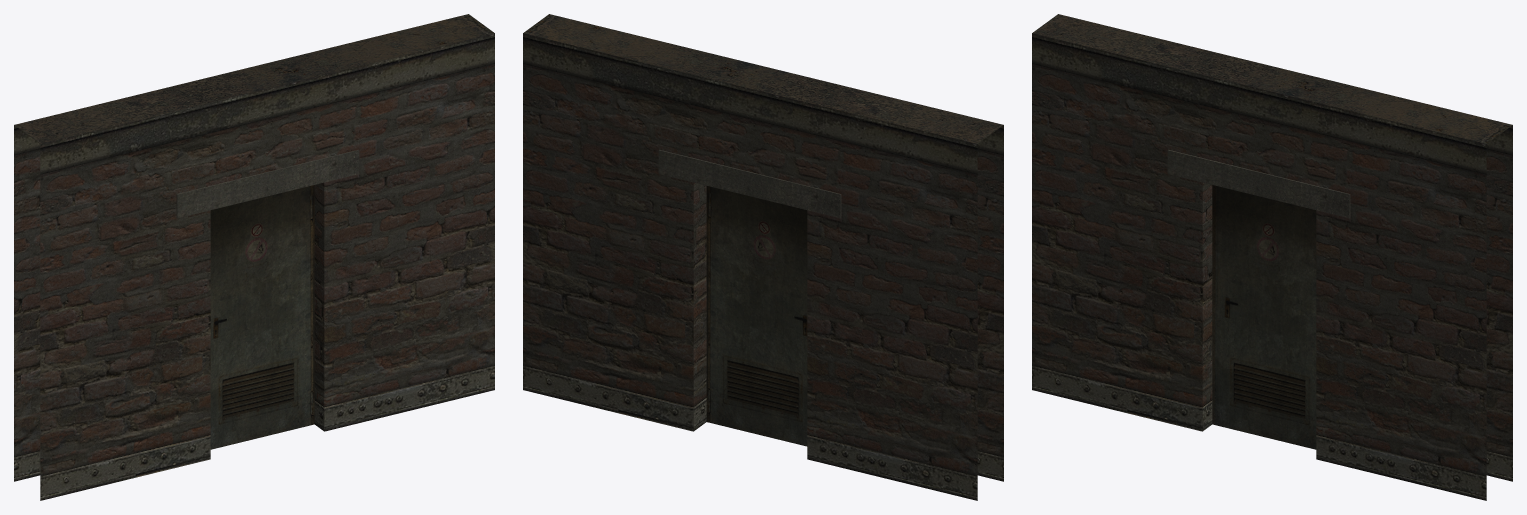
The model's file is doorway_hr_1.dae.
3 renders of one model, left to right at view 1: azimuth 30°, elevation 25°; view 2: azimuth 150°, elevation 25°; view 3: azimuth 330°, elevation 25°, orthographic.
Parts seen in each view (by area): view 1: doorway_hr_1, metal_door_1; view 2: doorway_hr_1, metal_door_1; view 3: doorway_hr_1, metal_door_1.
Part boxes in pixels (x1,y1,x2,y2): doorway_hr_1: [14, 14, 494, 500]; metal_door_1: [210, 185, 314, 449]; doorway_hr_1: [523, 14, 1003, 500]; metal_door_1: [706, 186, 807, 446]; doorway_hr_1: [1032, 14, 1512, 500]; metal_door_1: [1212, 185, 1316, 449].
Bounding box in the file's own units: 4 × 0.42 × 3.
4 materials, 4 textured.
